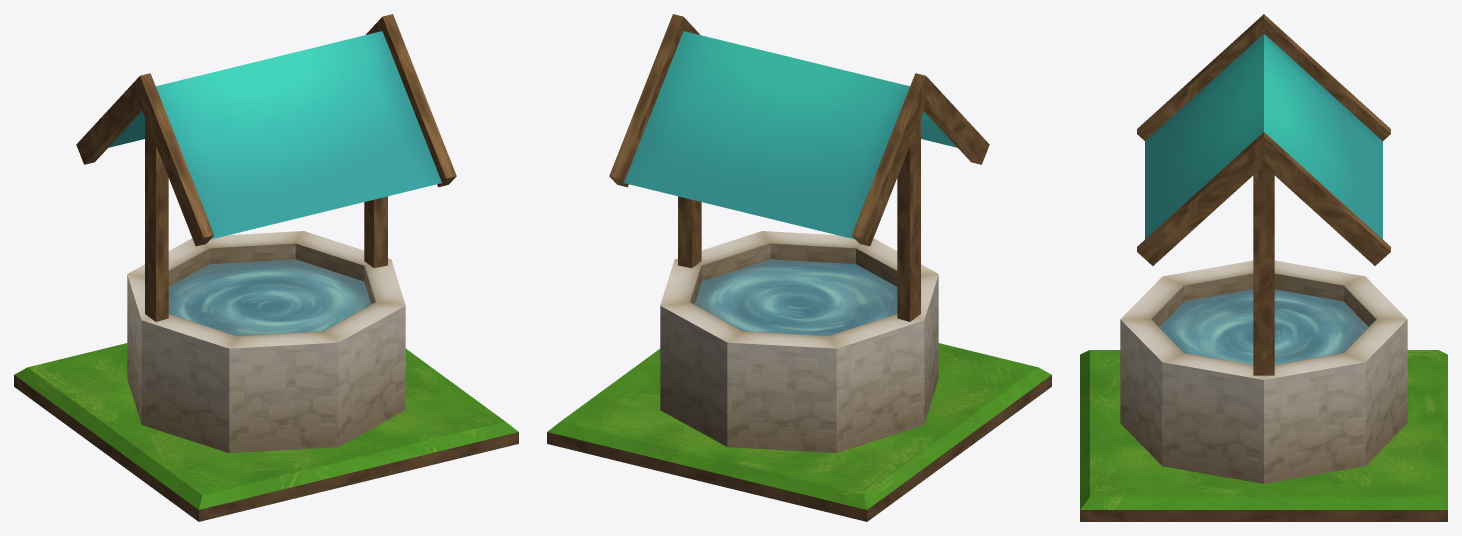
Rendered from Well.fbx.
The picture shows the model from 3 angles, left to right: view 1: azimuth 30°, elevation 25°; view 2: azimuth 150°, elevation 25°; view 3: azimuth 270°, elevation 25°; orthographic projection.
Visible parts, largest first — view 1: Well; view 2: Well; view 3: Well.
Part boxes in pixels (left/top/right/bottom): Well: left=14, top=14, right=518, bottom=521; Well: left=547, top=14, right=1051, bottom=521; Well: left=1080, top=14, right=1447, bottom=521.
Bounding box in the file's own units: 51.25 × 56.68 × 51.25.
Materials: 1 (1 with a texture image).
